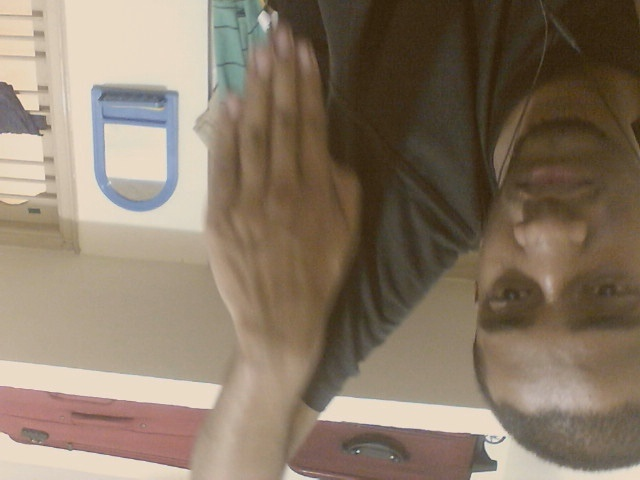hand: (201, 19, 366, 368)
